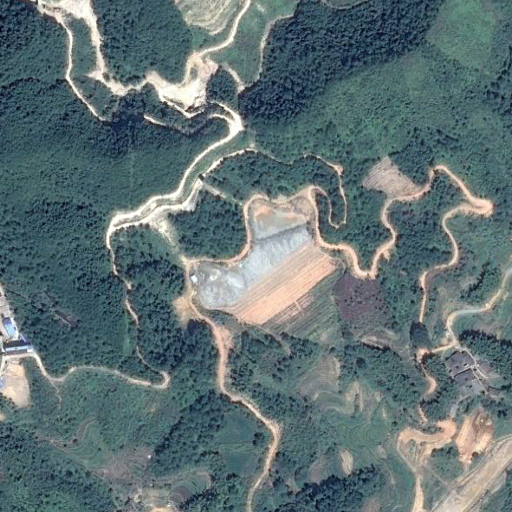tp: (190, 196, 343, 349)
